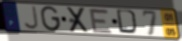7: (141, 9, 159, 37)
D: (115, 9, 141, 37)
E: (88, 7, 114, 35)
G: (40, 5, 62, 33)
J: (22, 5, 40, 30)
X: (66, 7, 91, 34)
